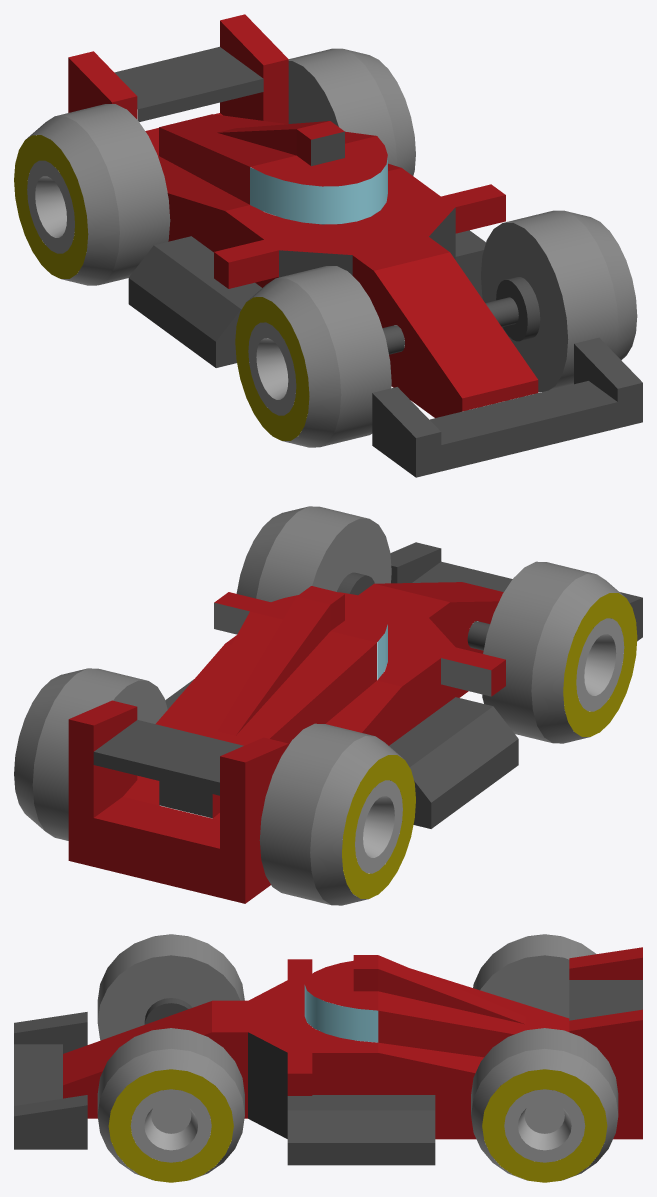
Rendered from car.glb.
3 views of the same model, one above another, from view 1: azimuth 30°, elevation 25°; view 2: azimuth 150°, elevation 25°; view 3: azimuth 270°, elevation 25° (orthographic). The views are drawn at different scales.
Visible parts, largest first — view 1: body.005, wheel_frontRight.005, wheel_backRight.005, wheel_frontLeft.005, wheel_backLeft.005; view 2: body.005, wheel_backRight.005, wheel_frontRight.005, wheel_backLeft.005, wheel_frontLeft.005; view 3: body.005, wheel_frontLeft.005, wheel_backLeft.005, wheel_frontRight.005, wheel_backRight.005.
Part boxes in pixels (<box>): body.005: <box>68,14,642,477</box>; wheel_frontRight.005: <box>235,266,391,447</box>; wheel_backRight.005: <box>14,104,170,285</box>; wheel_frontLeft.005: <box>481,210,637,392</box>; wheel_backLeft.005: <box>288,48,415,224</box>; body.005: <box>68,542,642,903</box>; wheel_backRight.005: <box>259,723,415,905</box>; wheel_frontRight.005: <box>482,561,637,743</box>; wheel_backLeft.005: <box>14,668,167,840</box>; wheel_frontLeft.005: <box>236,506,391,601</box>; body.005: <box>14,947,642,1165</box>; wheel_frontLeft.005: <box>97,1028,244,1182</box>; wheel_backLeft.005: <box>471,1028,618,1182</box>; wheel_frontRight.005: <box>97,934,244,1040</box>; wheel_backRight.005: <box>473,934,596,1018</box>.
Bounding box in the file's own units: 1.3 × 0.7329 × 2.56.
